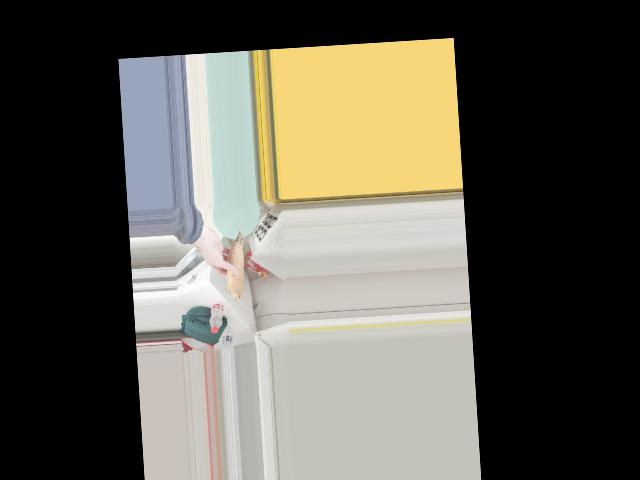sweet_potato: (221, 235, 244, 303)
